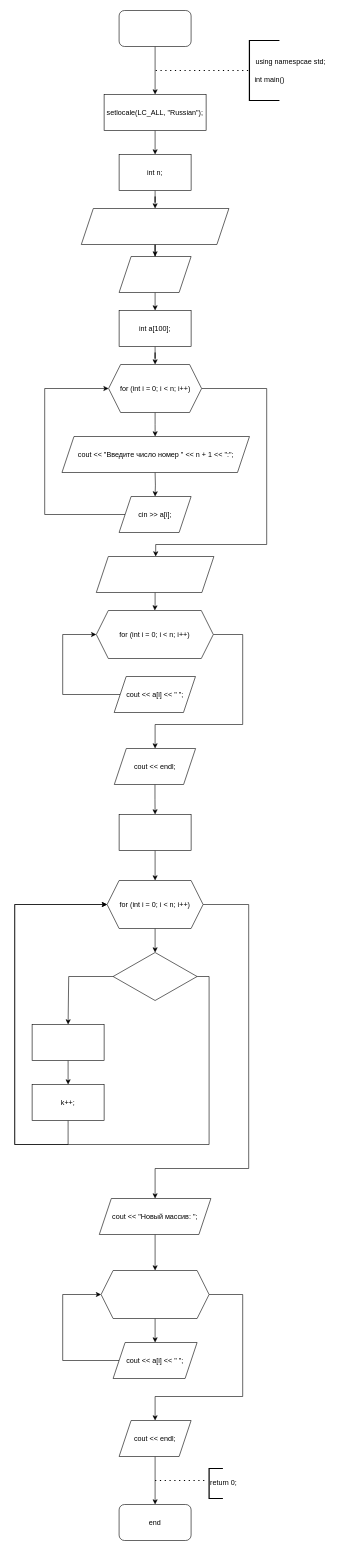
Some shapes in this 340 by 1551 pixel diagram are drawn without their labels. The shapes that lost their labels are listed below. From the top down, each one's centre as x and y in pixels, then its label:
the point at 154,28: Start
the point at 155,226: cout << "Введите размер массива: ";
the point at 154,274: cin >> n;
the point at 155,574: cout << "Массив: ";
the point at 154,832: int k = 0;
the point at 154,976: if (a[i] % 2 == 0)
the point at 68,1042: a[k] = a[i];
the point at 154,1294: for (int i = 0; i < k; i++)
